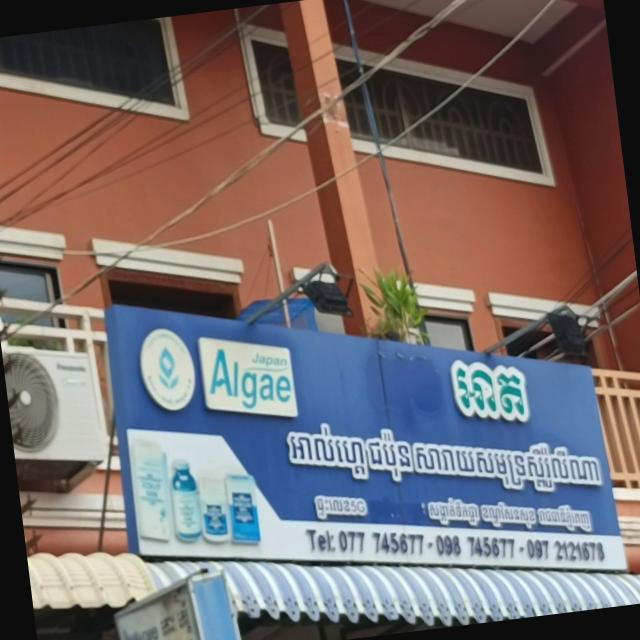160: (309, 491, 374, 522)
2: (423, 493, 596, 531)
Yolov11_80vkh: (276, 415, 608, 499), (442, 352, 538, 428)
